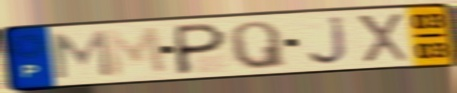J: (306, 14, 352, 68)
M: (102, 25, 170, 79), (49, 28, 115, 81)
P: (173, 20, 230, 76)
Q: (227, 19, 291, 71)
X: (353, 11, 412, 65)
